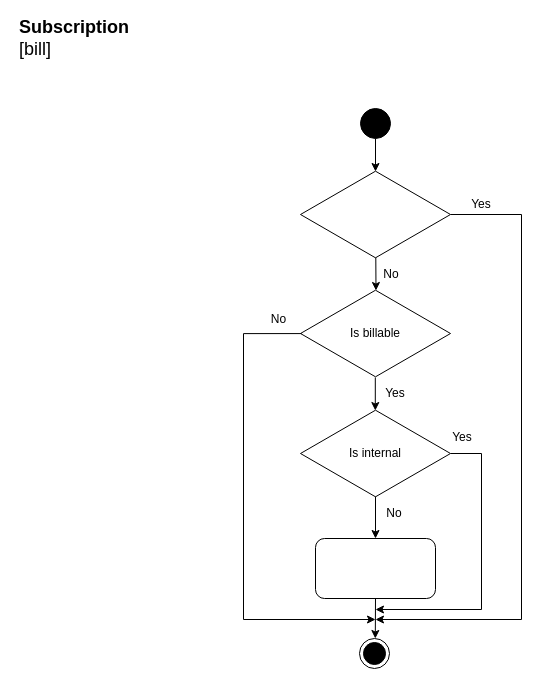
This 547x686 diagram has some shape labels left out. The shapes that lost their labels are listed below. From the top down, each one's centre as x and y in pixels, then its label:
At pixel 375 214: "Has receivable".
At pixel 375 568: "Create receivable".
